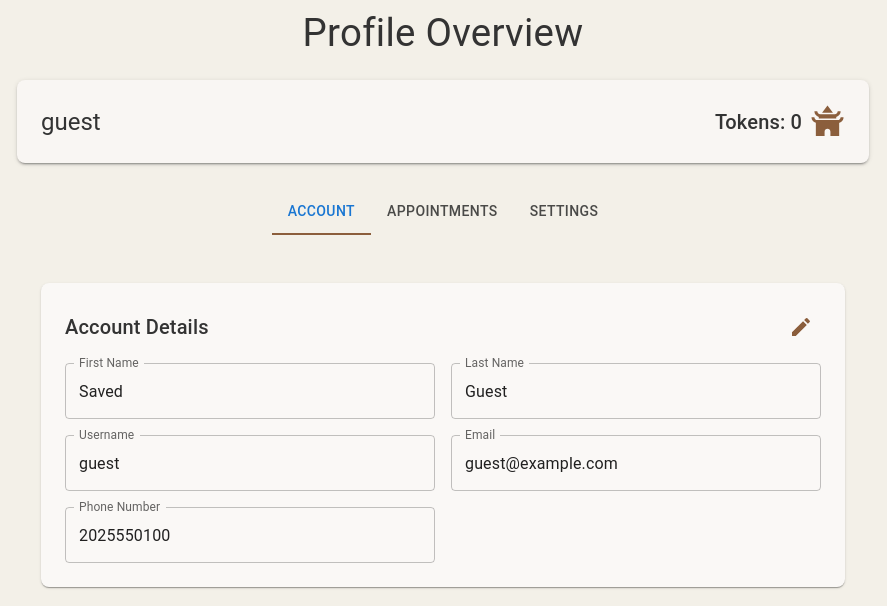
Test: does not describe a failed appointment request as an empty calendar
Click the tab "Appointments": {"x": 442, "y": 211} [371,187,514,235]
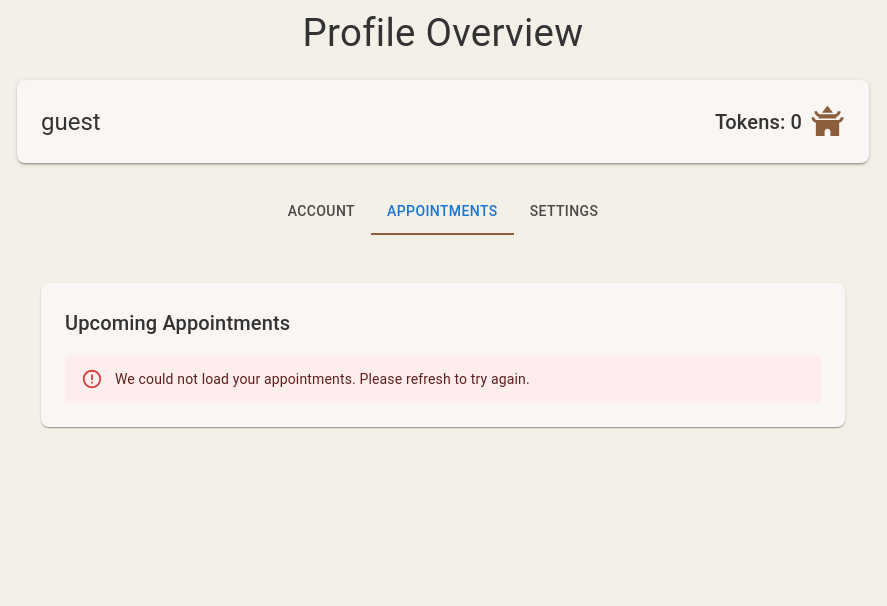
Check: the message shows "could not load", box [115,371,530,387]
